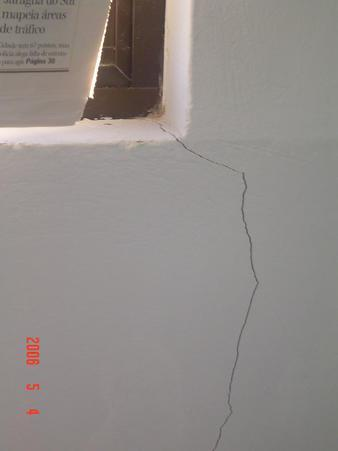crack: (157, 122, 259, 451)
